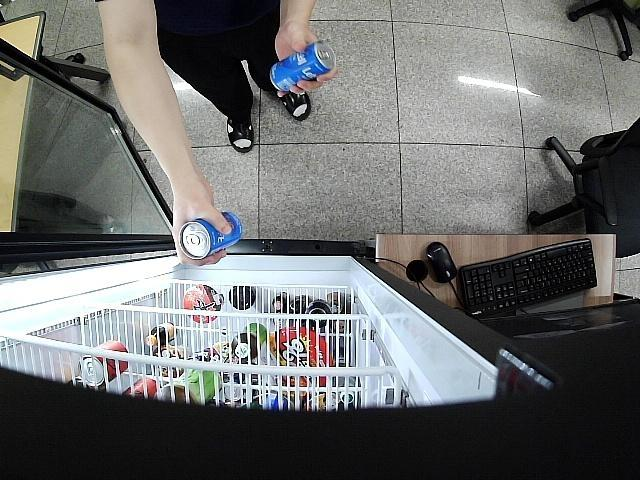15_letsbe: (270, 40, 336, 92), (180, 210, 242, 259)
